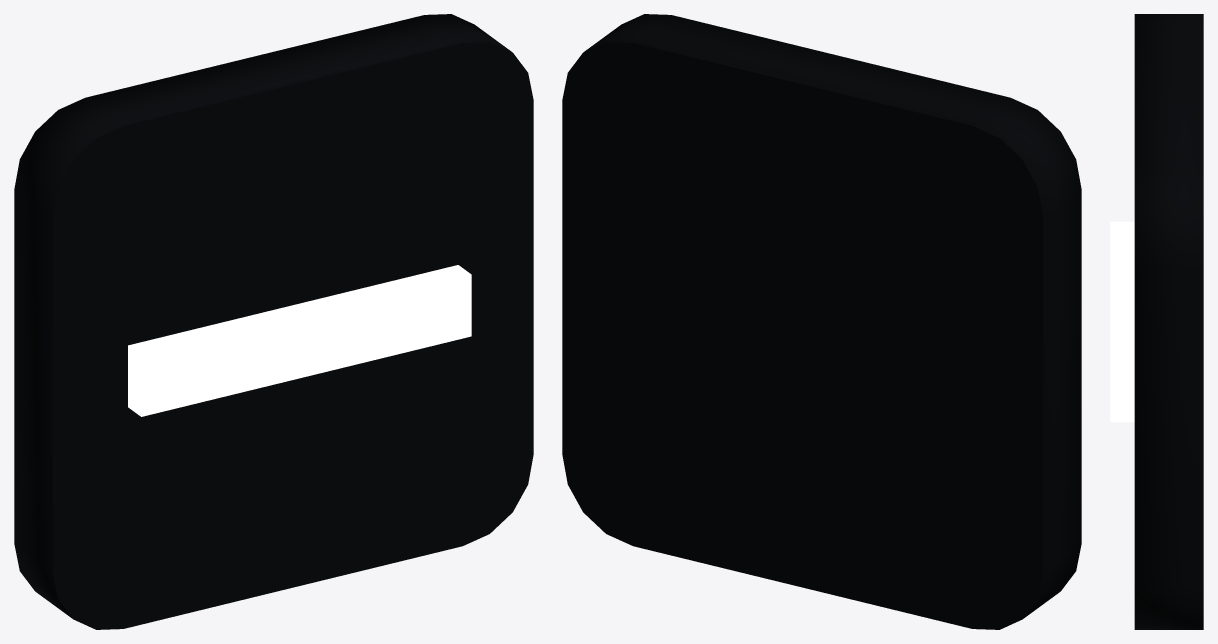
The model's file is minusButton.glb.
3 renders of one model, left to right at view 1: azimuth 30°, elevation 25°; view 2: azimuth 150°, elevation 25°; view 3: azimuth 270°, elevation 25°, orthographic. The views are drawn at different scales.
Visible parts, largest first — view 1: ExpandButton, Minus; view 2: ExpandButton; view 3: ExpandButton, Minus.
Boxes of the visible parts, x1,y1,x2,y2 form: ExpandButton: (14, 14, 533, 629); Minus: (128, 265, 471, 416); ExpandButton: (562, 14, 1081, 629); ExpandButton: (1134, 14, 1203, 629); Minus: (1110, 221, 1134, 422).
Size of what is drawn, in the model's own units: 0.32 by 0.32 by 0.0596.
2 materials, 2 textured.
